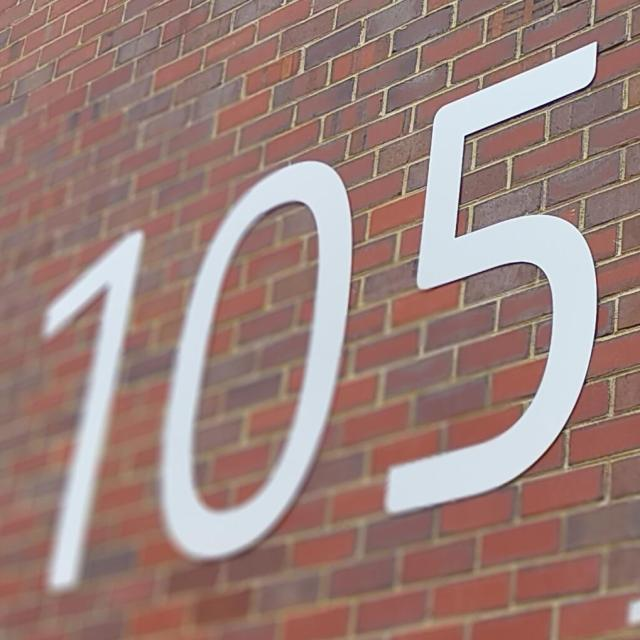character: (378, 37, 608, 520), (155, 156, 357, 566), (24, 223, 150, 602)
